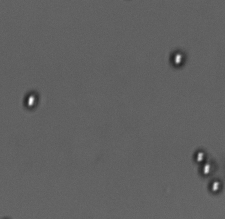Living Cell: (21, 88, 40, 110), (167, 47, 186, 69), (207, 176, 223, 196), (191, 147, 207, 163), (201, 159, 215, 177)
